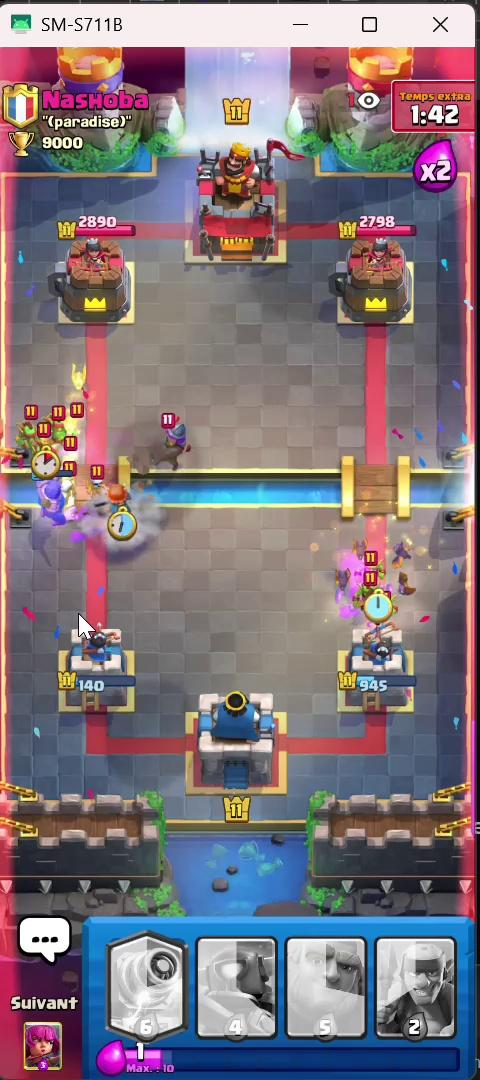bat: (386, 567, 430, 606), (386, 537, 419, 567), (348, 534, 377, 567), (58, 369, 100, 391), (325, 560, 348, 595)
chevalier: (26, 474, 85, 531)
gobelin: (353, 579, 384, 603), (357, 558, 380, 579)
gobelin_lances: (12, 409, 40, 448), (54, 419, 69, 453)
mousquetaire: (149, 403, 190, 475)
squelette: (79, 456, 108, 490), (59, 443, 83, 463), (59, 469, 71, 501)
valkyrie: (102, 479, 152, 526)
